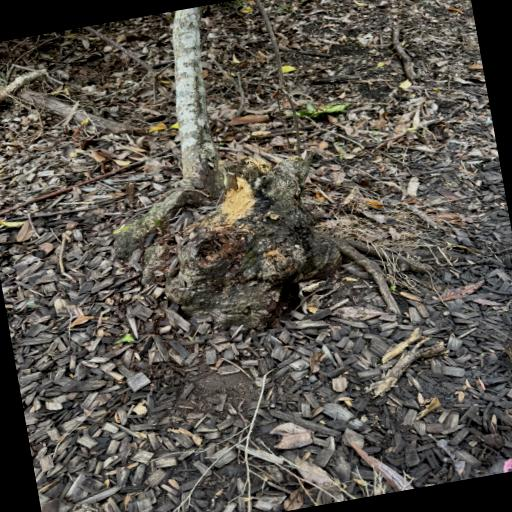tree root: (114, 6, 399, 328)
